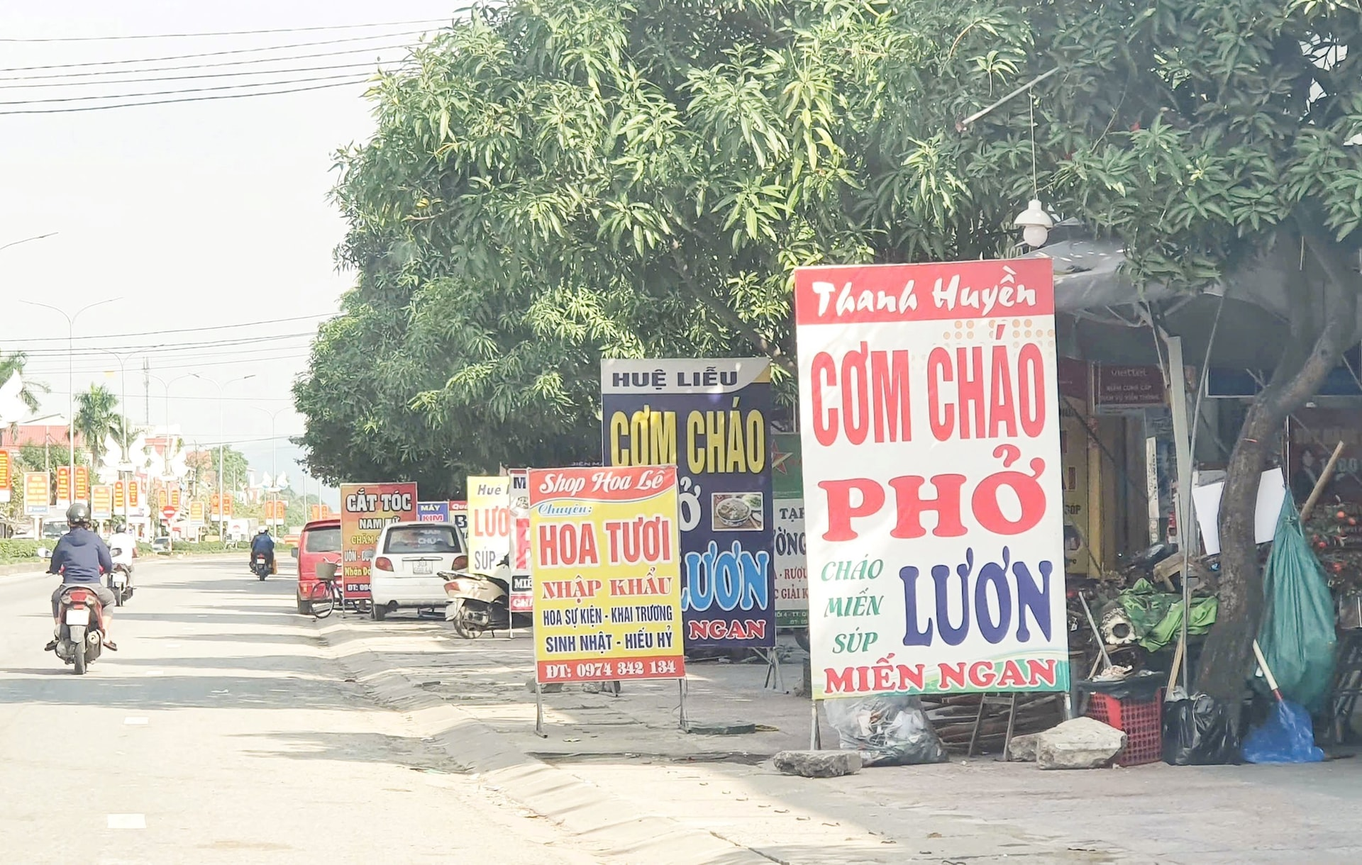bien_so: (62, 607, 91, 628)
